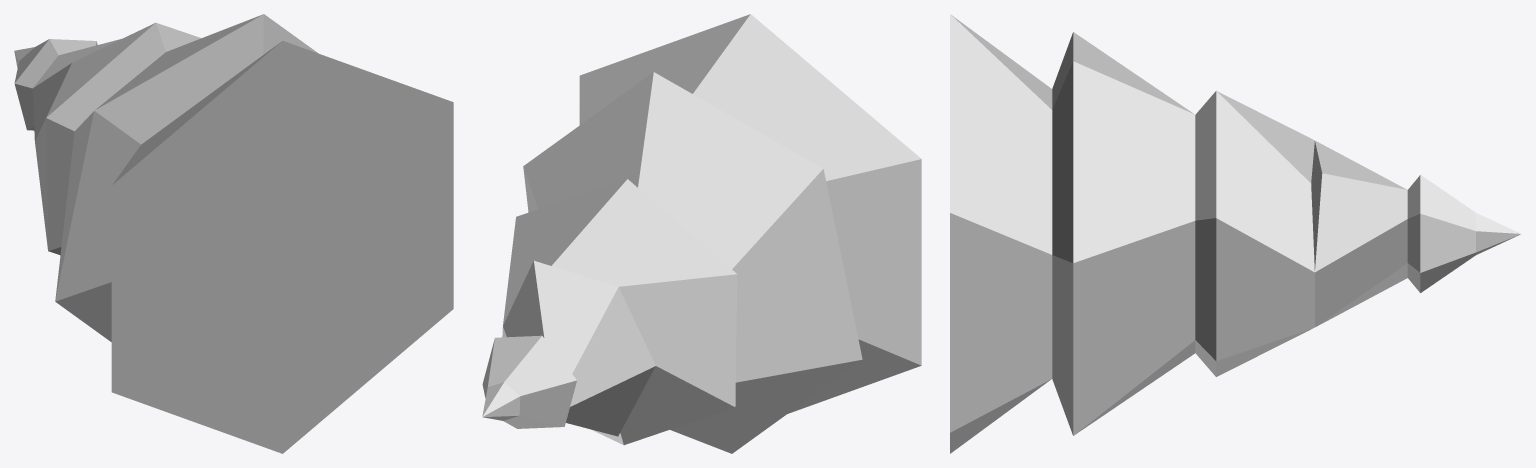
Rendered from winter_night_tree_3.fbx.
The picture shows the model from 3 angles, left to right: view 1: azimuth 30°, elevation 25°; view 2: azimuth 150°, elevation 25°; view 3: azimuth 270°, elevation 25°; orthographic projection. The views are drawn at different scales.
Visible parts, largest first — view 1: winter_night_tree_3; view 2: winter_night_tree_3; view 3: winter_night_tree_3.
Part boxes in pixels (x1,y1,x2,y2): winter_night_tree_3: (14,14,453,453); winter_night_tree_3: (482,14,921,453); winter_night_tree_3: (950,14,1520,453).
Bounding box in the file's own units: 121 × 140 × 165.
